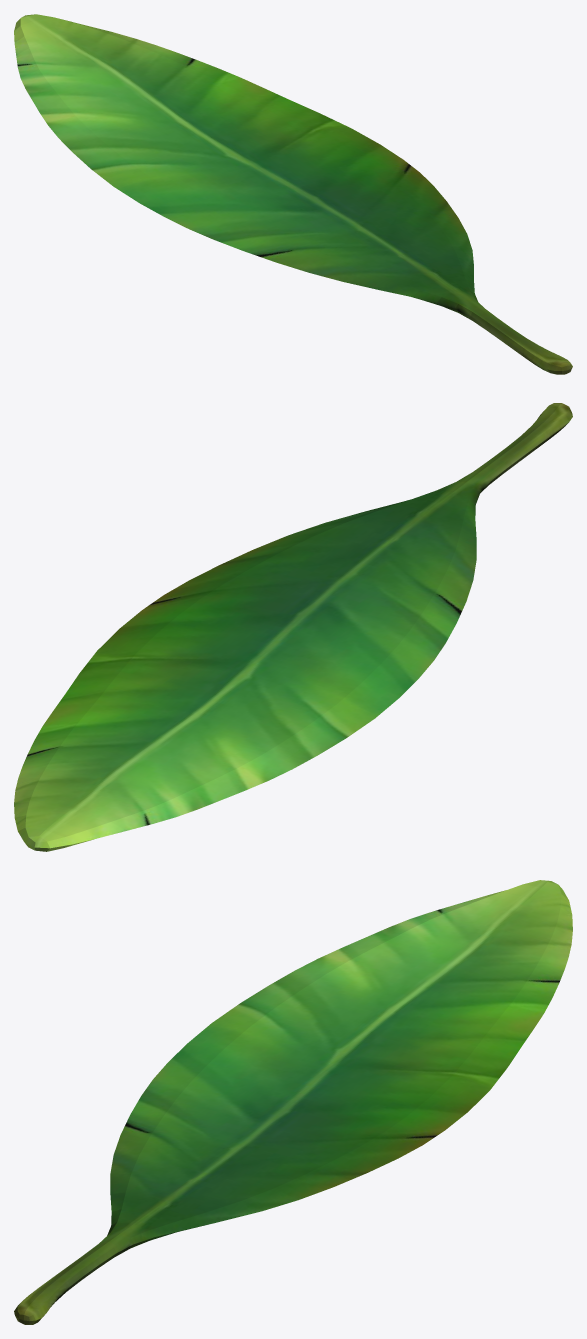
The model's file is Leaf.fbx.
The picture shows the model from 3 angles, top to bottom: view 1: azimuth 30°, elevation 25°; view 2: azimuth 150°, elevation 25°; view 3: azimuth 330°, elevation 25°; orthographic projection. The views are drawn at different scales.
Parts seen in each view (by area): view 1: Plane; view 2: Plane; view 3: Plane.
Part boxes in pixels (left/top/right/bottom): Plane: left=14, top=14, right=572, bottom=374; Plane: left=14, top=403, right=572, bottom=851; Plane: left=14, top=880, right=572, bottom=1324.
Bounding box in the file's own units: 1.01 × 0.0721 × 3.58.
